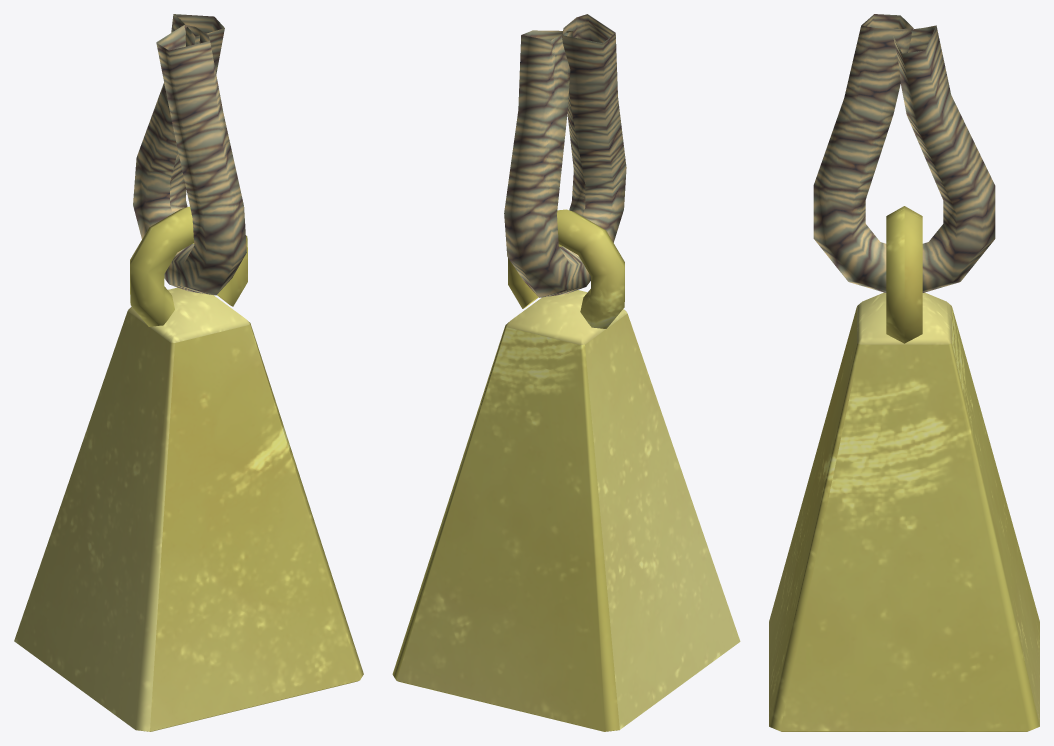
The model's file is SM_Torii_gate_ornament_bell.fbx.
The picture shows the model from 3 angles, left to right: view 1: azimuth 30°, elevation 25°; view 2: azimuth 150°, elevation 25°; view 3: azimuth 270°, elevation 25°; orthographic projection. The views are drawn at different scales.
Parts seen in each view (by area): view 1: SM_Torii_gate_ornament_bell_LOD0; view 2: SM_Torii_gate_ornament_bell_LOD0; view 3: SM_Torii_gate_ornament_bell_LOD0.
Boxes of the visible parts, left/top/right/bottom form: SM_Torii_gate_ornament_bell_LOD0: left=14, top=14, right=363, bottom=731; SM_Torii_gate_ornament_bell_LOD0: left=392, top=14, right=740, bottom=731; SM_Torii_gate_ornament_bell_LOD0: left=769, top=14, right=1039, bottom=731.
Size of the model in its own units: 27.39 by 27.39 by 74.73.
